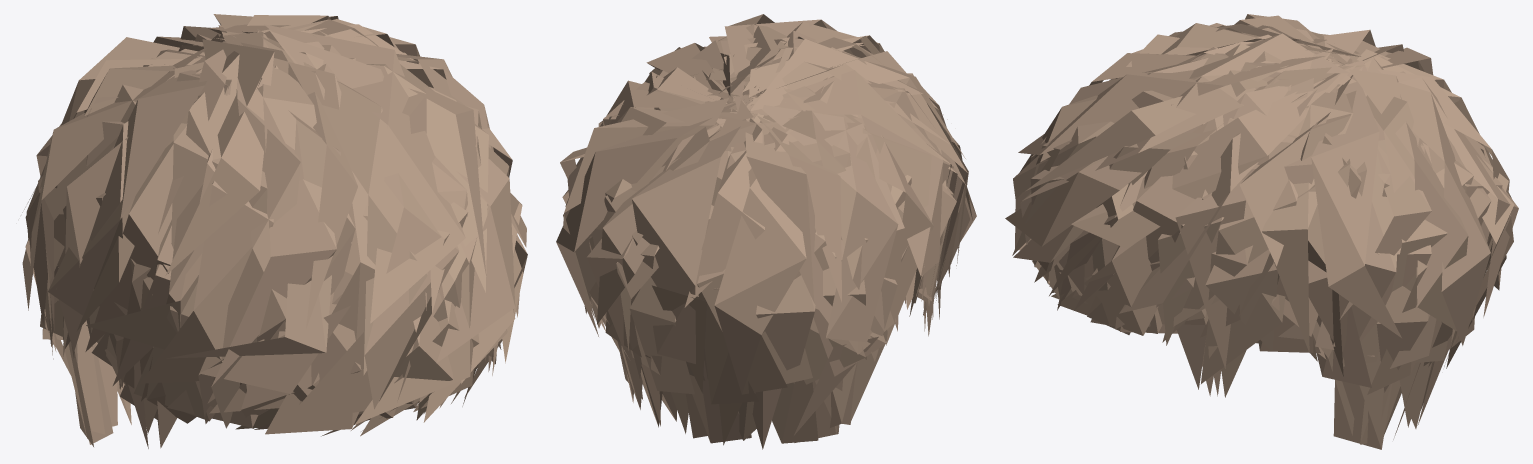
The model's file is male_hair_10_lod2.glb.
The picture shows the model from 3 angles, left to right: view 1: azimuth 30°, elevation 25°; view 2: azimuth 150°, elevation 25°; view 3: azimuth 270°, elevation 25°; orthographic projection. The views are drawn at different scales.
Parts seen in each view (by area): view 1: hair_10; view 2: hair_10; view 3: hair_10.
Part boxes in pixels (bbox=[...]): hair_10: bbox=[22, 14, 527, 448]; hair_10: bbox=[556, 14, 976, 449]; hair_10: bbox=[1005, 14, 1518, 449].
Size of the model in its own units: 0.1806 by 0.1794 by 0.2244.
